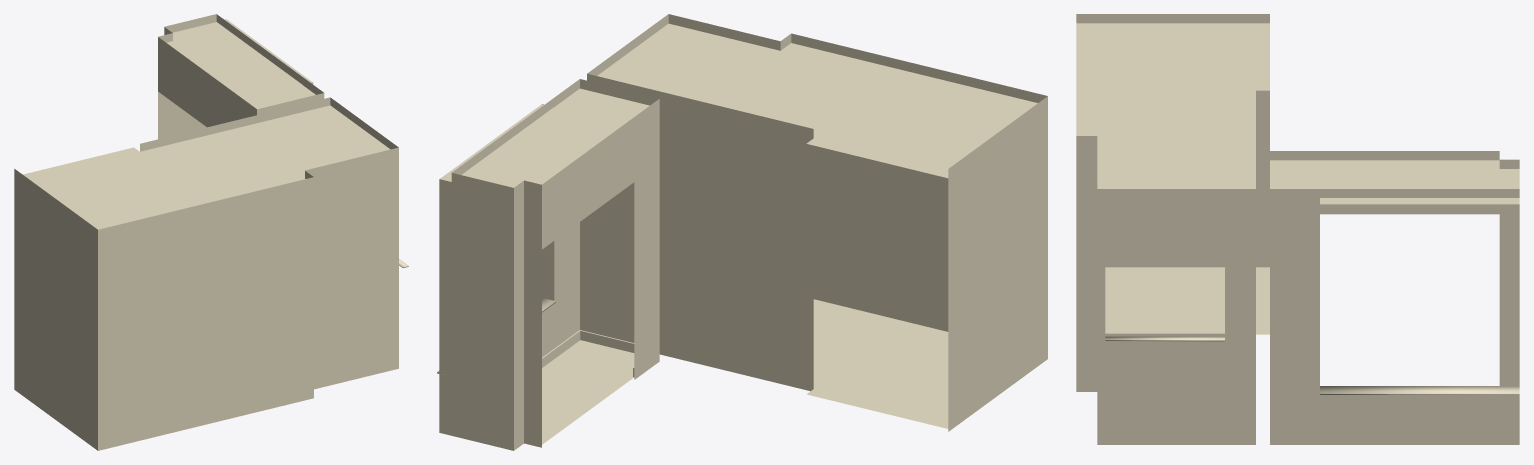
The model's file is SD_Estrutura_CozinhaVaranda.fbx.
3 renders of one model, left to right at view 1: azimuth 30°, elevation 25°; view 2: azimuth 150°, elevation 25°; view 3: azimuth 270°, elevation 25°, orthographic. The views are drawn at different scales.
Visible parts, largest first — view 1: SD_Estrutura_CozinhaVaranda; view 2: SD_Estrutura_CozinhaVaranda; view 3: SD_Estrutura_CozinhaVaranda.
Boxes of the visible parts, <box> form: SD_Estrutura_CozinhaVaranda: <box>14,14,408,450</box>; SD_Estrutura_CozinhaVaranda: <box>437,14,1047,450</box>; SD_Estrutura_CozinhaVaranda: <box>1076,14,1519,444</box>.
Bounding box in the file's own units: 433 × 283 × 444.
